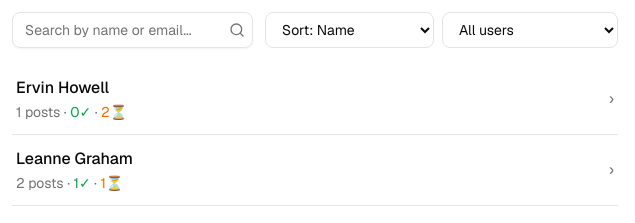
Test case: filters users with no completed todos
Select "No completed todos" in the dropdown named "filter". click: (530, 30)
box: [442, 12, 618, 48]
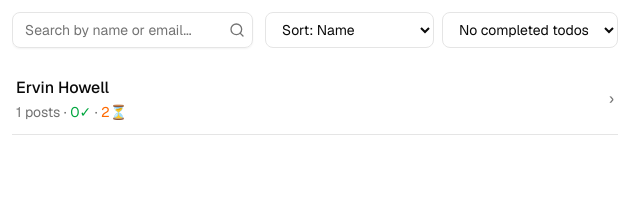
Expected: the text "Ervin Howell" is shown, [16, 77, 109, 98]
Expected: the link "Leanne Graham" is gone
